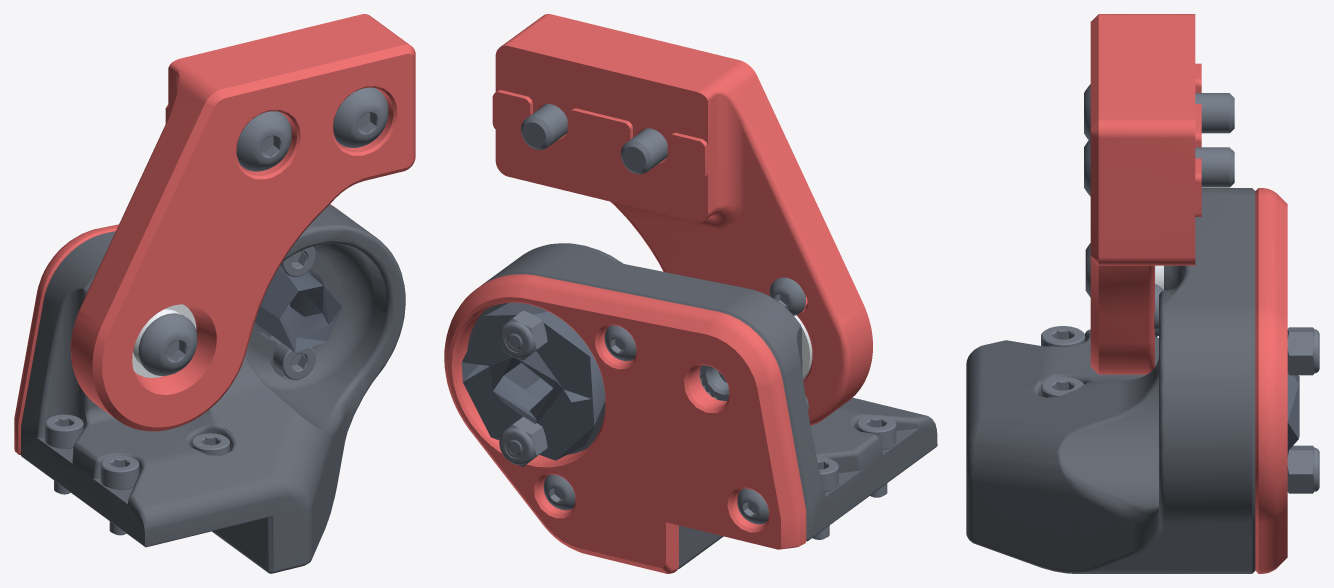
The picture shows the model from 3 angles, left to right: view 1: azimuth 30°, elevation 25°; view 2: azimuth 150°, elevation 25°; view 3: azimuth 270°, elevation 25°; orthographic projection. The views are drawn at different scales.
Visible parts, largest first — view 1: z_bed_left, z_carriage_left, leadscrew_nut_v1, m5x16_bhcs__3_, m5x16_bhcs__3__8, m5x16_bhcs__3__9, [a]_z_carriage_left, m3x8_shcs__3__5, m3x8_shcs__3_, m3x12_shcs__1__11, m3x12_shcs__1_, m3x8_shcs__3__6; view 2: z_bed_left, [a]_z_carriage_left, z_carriage_left, leadscrew_nut_v1, m5x16_bhcs__3__8, m5x16_bhcs__3__9, m3_locknut__1_, m3_locknut__1__14, m3x8_shcs__3__5, m3x6_bhcs__3__22, m3x6_bhcs__3__19, m3x6_bhcs__3_ (+3 smaller); view 3: z_carriage_left, z_bed_left, [a]_z_carriage_left, m5x16_bhcs__3__9, m5x16_bhcs__3__8, m3_locknut__1_, m3_locknut__1__14, leadscrew_nut_v1, m3x8_shcs__3__5, m3x8_shcs__3__6.
Part boxes in pixels (bbox=[...]): z_bed_left: bbox=[70, 14, 415, 431]; z_carriage_left: bbox=[21, 204, 405, 573]; leadscrew_nut_v1: bbox=[254, 268, 341, 352]; m5x16_bhcs__3_: bbox=[138, 313, 197, 375]; m5x16_bhcs__3__8: bbox=[236, 111, 291, 171]; m5x16_bhcs__3__9: bbox=[333, 87, 388, 147]; [a]_z_carriage_left: bbox=[14, 204, 333, 454]; m3x8_shcs__3__5: bbox=[101, 455, 139, 535]; m3x8_shcs__3_: bbox=[45, 414, 83, 494]; m3x12_shcs__1__11: bbox=[270, 336, 315, 379]; m3x12_shcs__1_: bbox=[279, 246, 315, 276]; m3x8_shcs__3__6: bbox=[191, 433, 229, 455]; z_bed_left: bbox=[492, 14, 872, 425]; [a]_z_carriage_left: bbox=[444, 274, 806, 573]; z_carriage_left: bbox=[467, 243, 937, 569]; leadscrew_nut_v1: bbox=[461, 302, 605, 460]; m5x16_bhcs__3__8: bbox=[620, 128, 667, 174]; m5x16_bhcs__3__9: bbox=[520, 104, 567, 149]; m3_locknut__1_: bbox=[498, 310, 547, 360]; m3_locknut__1__14: bbox=[498, 417, 547, 466]; m3x8_shcs__3__5: bbox=[856, 415, 896, 497]; m3x6_bhcs__3__22: bbox=[769, 277, 805, 315]; m3x6_bhcs__3__19: bbox=[604, 325, 636, 360]; m3x6_bhcs__3_: bbox=[543, 474, 575, 510]; z_carriage_left: bbox=[966, 188, 1255, 573]; z_bed_left: bbox=[1090, 14, 1201, 374]; [a]_z_carriage_left: bbox=[1255, 188, 1287, 573]; m5x16_bhcs__3__9: bbox=[1084, 138, 1234, 196]; m5x16_bhcs__3__8: bbox=[1084, 84, 1234, 139]; m3_locknut__1_: bbox=[1287, 327, 1319, 375]; m3_locknut__1__14: bbox=[1287, 445, 1319, 493]; leadscrew_nut_v1: bbox=[1287, 374, 1299, 451]; m3x8_shcs__3__5: bbox=[1041, 326, 1085, 346]; m3x8_shcs__3__6: bbox=[1041, 377, 1084, 397].
Size of the model in its own units: 0.0573 by 0.07 by 0.044.
